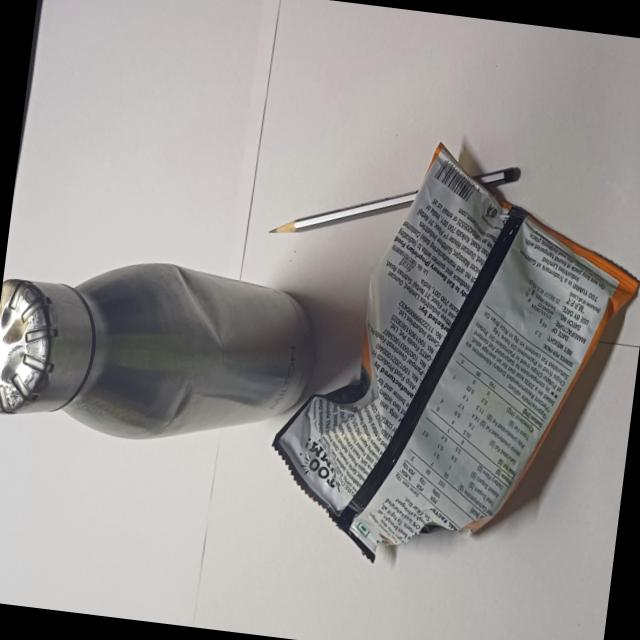Pencil-Bio: (264, 110, 526, 264)
Plastic-NonBio: (256, 122, 640, 594)
Steel-NonBio: (0, 237, 331, 463)
